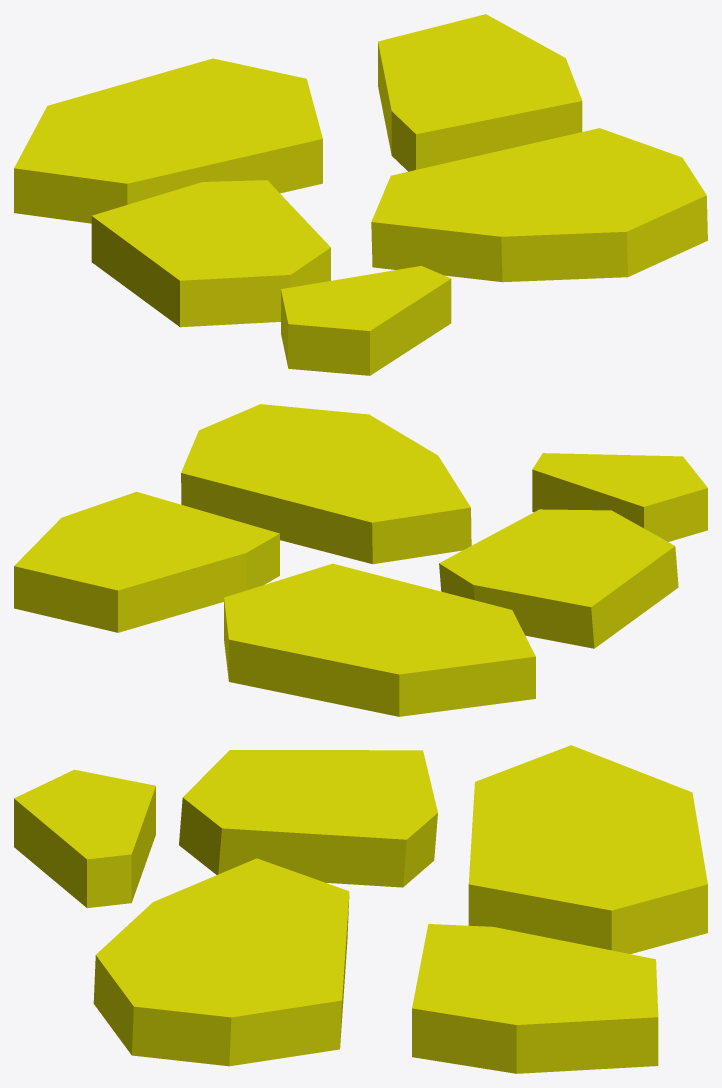
3 views of the same model, one above another, from view 1: azimuth 30°, elevation 25°; view 2: azimuth 150°, elevation 25°; view 3: azimuth 270°, elevation 25° (orthographic). The views are drawn at different scales.
Visible parts, largest first — view 1: decor_001; view 2: decor_001; view 3: decor_001.
Boxes of the visible parts, left/top/right/bottom form: decor_001: left=14, top=14, right=707, bottom=375; decor_001: left=14, top=404, right=707, bottom=716; decor_001: left=14, top=745, right=707, bottom=1073.
Bounding box in the file's own units: 2.23 × 0.1813 × 2.34.
1 material, 1 textured.
